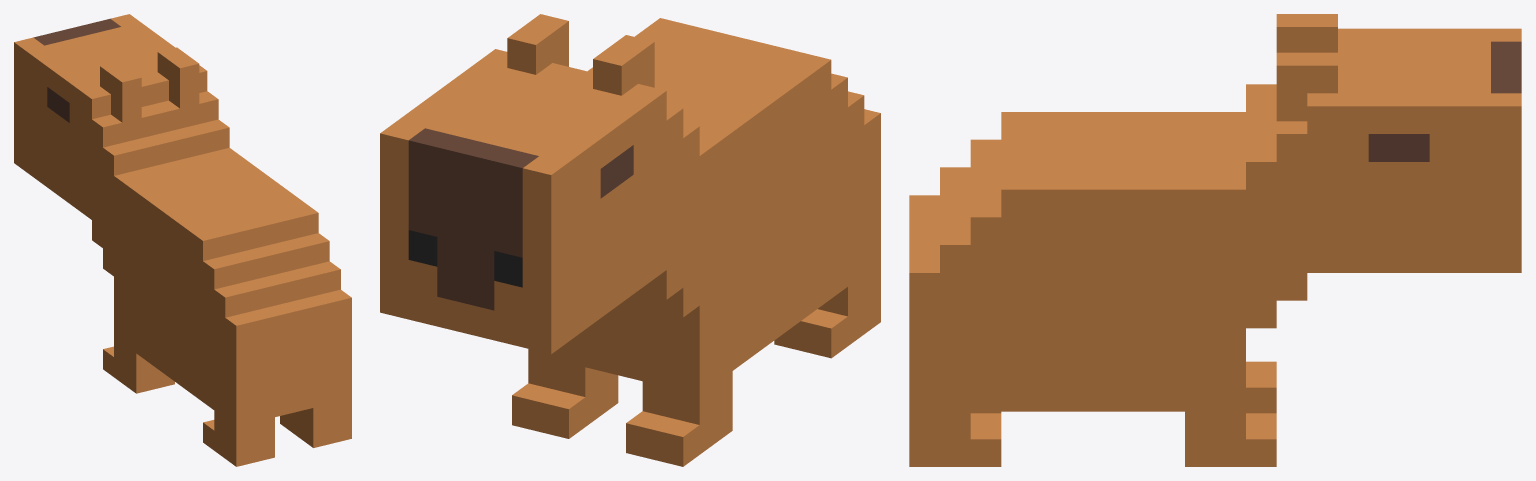
The model's file is capivara1.obj.
3 views of the same model, side by side, from view 1: azimuth 30°, elevation 25°; view 2: azimuth 150°, elevation 25°; view 3: azimuth 270°, elevation 25° (orthographic). The views are drawn at different scales.
Size of the model in its own units: 0.6 by 1.4 by 2.
1 material, 1 textured.
